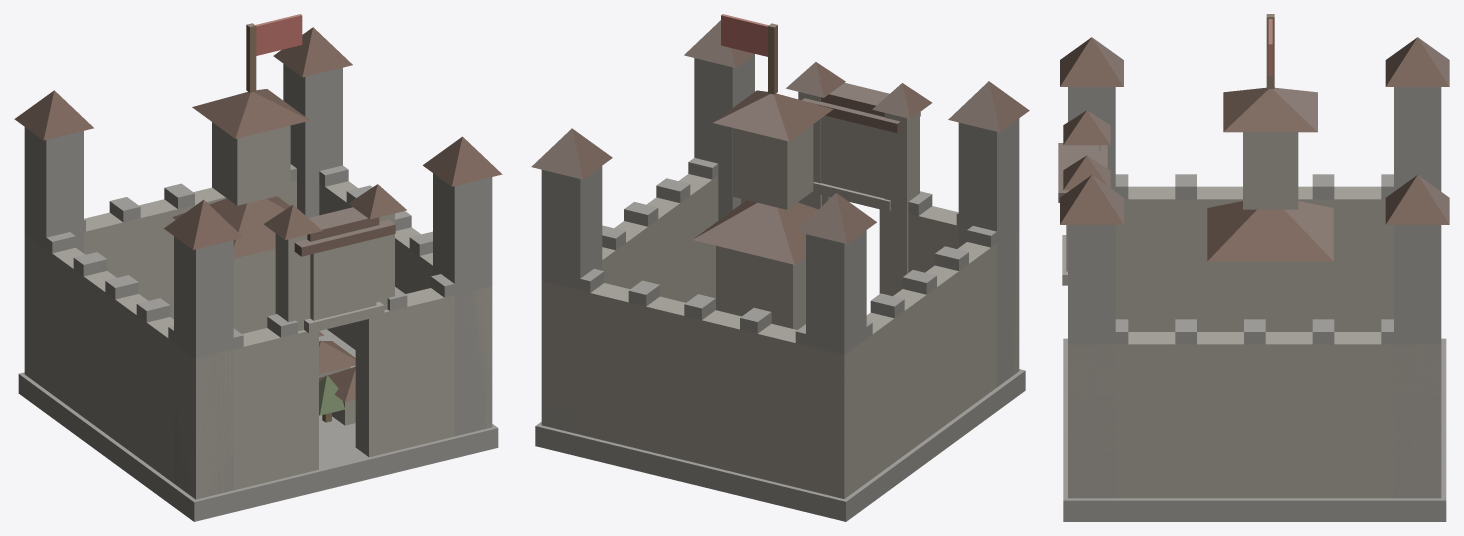
File: capital.gltf
The picture shows the model from 3 angles, left to right: view 1: azimuth 30°, elevation 25°; view 2: azimuth 150°, elevation 25°; view 3: azimuth 270°, elevation 25°; orthographic projection. The views are drawn at different scales.
Visible parts, largest first — view 1: building-capital; view 2: building-capital; view 3: building-capital.
Boxes of the visible parts, x1=… form: building-capital: x1=14, y1=14, x2=502, y2=521; building-capital: x1=531, y1=14, x2=1029, y2=521; building-capital: x1=1058, y1=14, x2=1449, y2=521.
Bounding box in the file's own units: 0.987 × 1.19 × 0.991.
